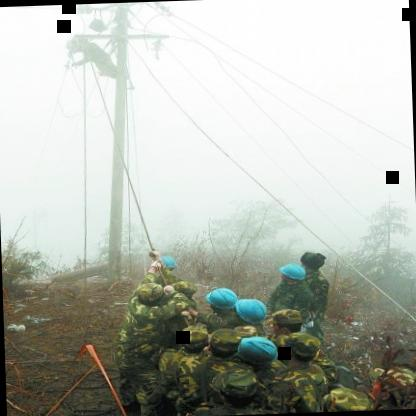helmet: (231, 336, 280, 369), (232, 298, 272, 332), (276, 262, 308, 292), (208, 288, 243, 312), (152, 252, 180, 275)
